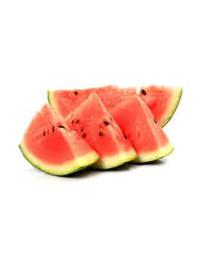watermelon: (17, 84, 184, 177)
